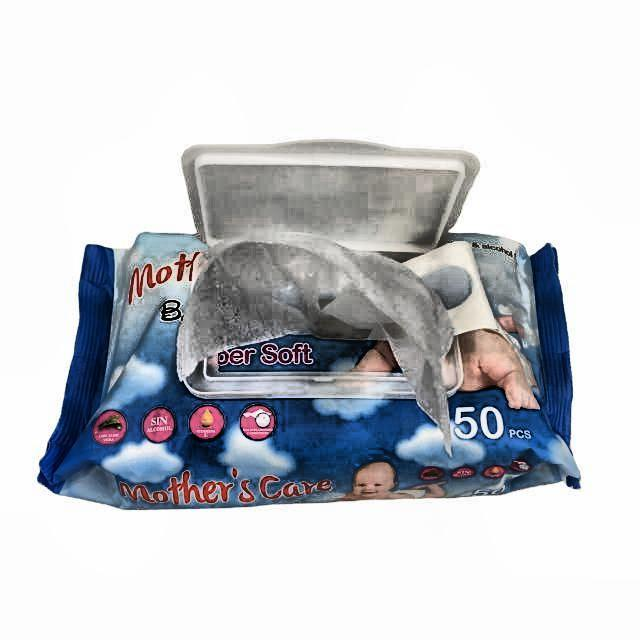plastic: (36, 139, 582, 511)
